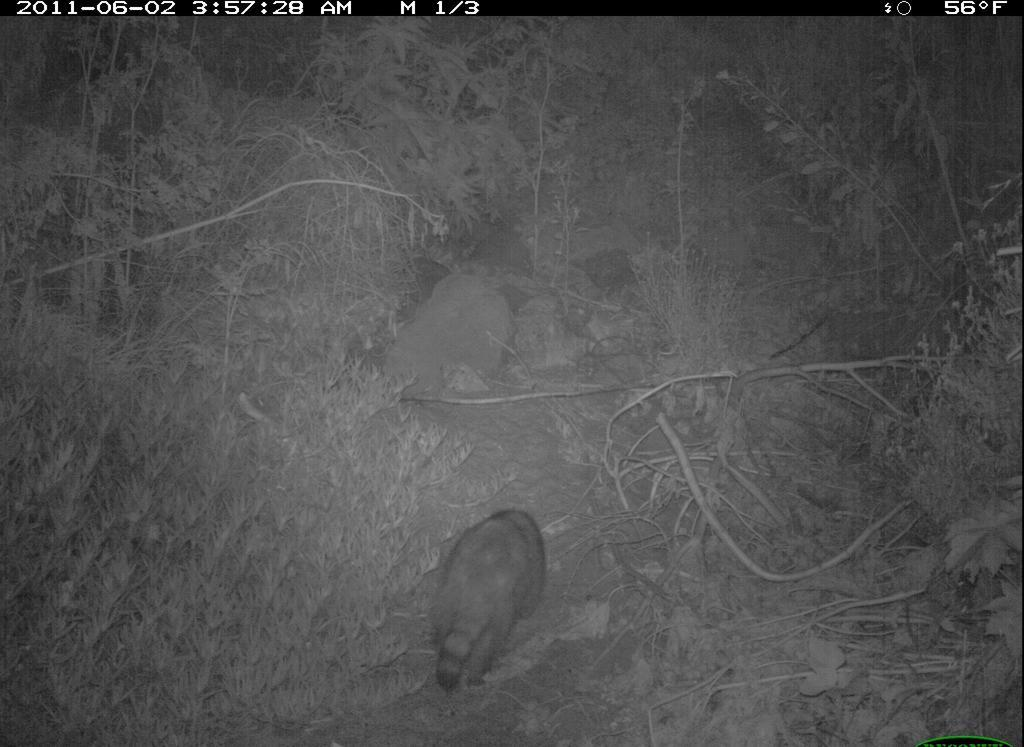raccoon: (409, 495, 560, 705)
